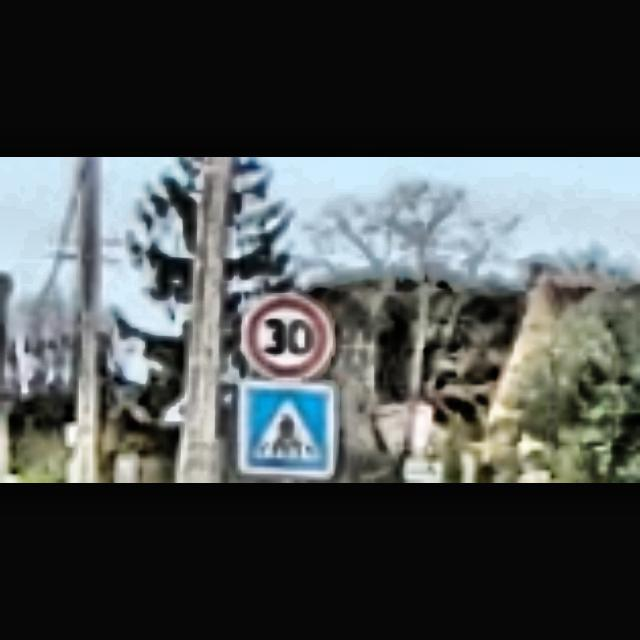speed_30: (236, 292, 336, 382)
